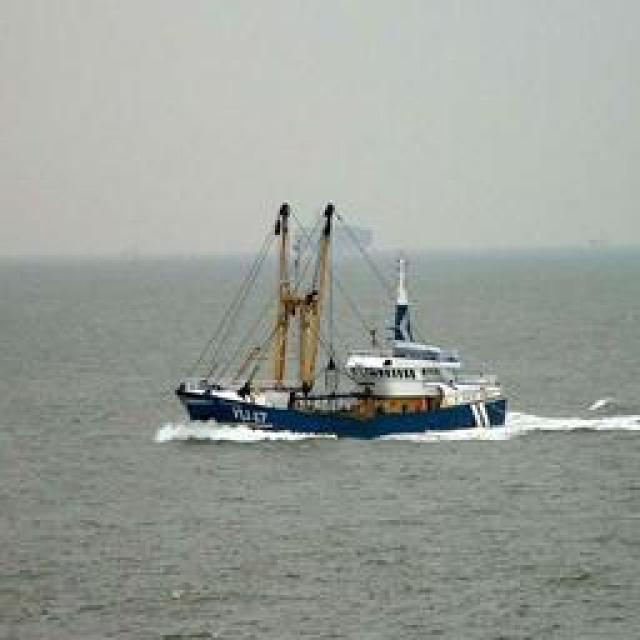CIV_Ship: (170, 195, 512, 443)
